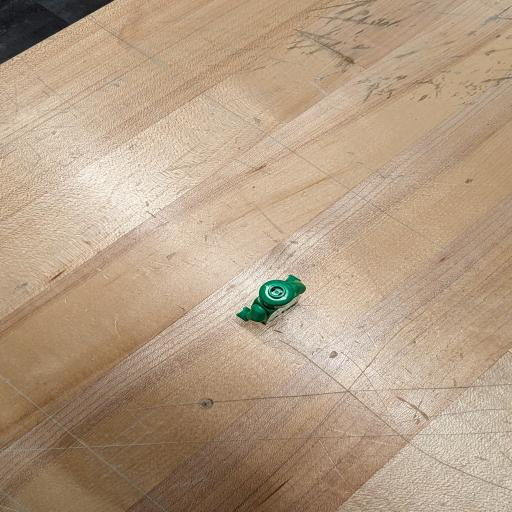Minifig: (237, 275, 305, 324)
